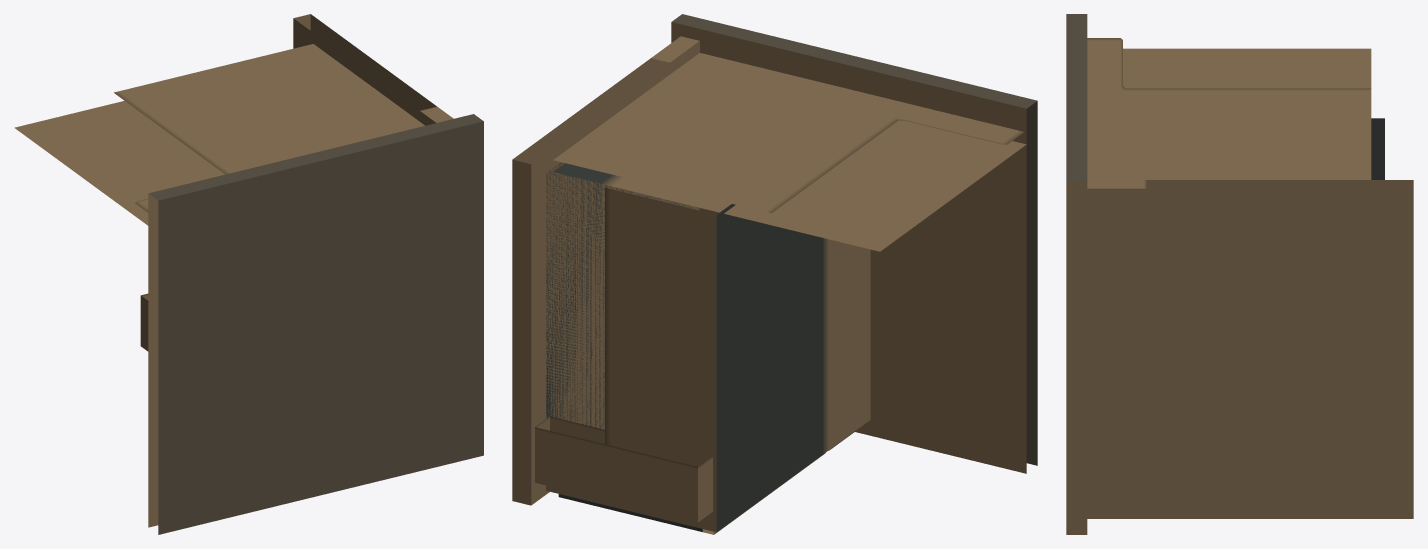
File: section-8.obj
3 renders of one model, left to right at view 1: azimuth 30°, elevation 25°; view 2: azimuth 150°, elevation 25°; view 3: azimuth 270°, elevation 25°, orthographic. The views are drawn at different scales.
Size of the model in its own units: 0.937 by 0.92 by 0.82.
